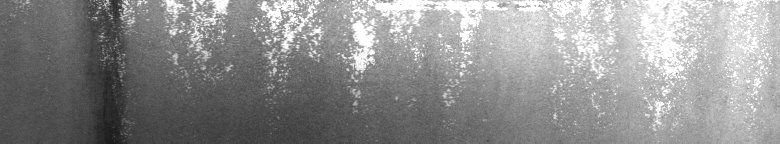kb: (88, 4, 472, 135)
